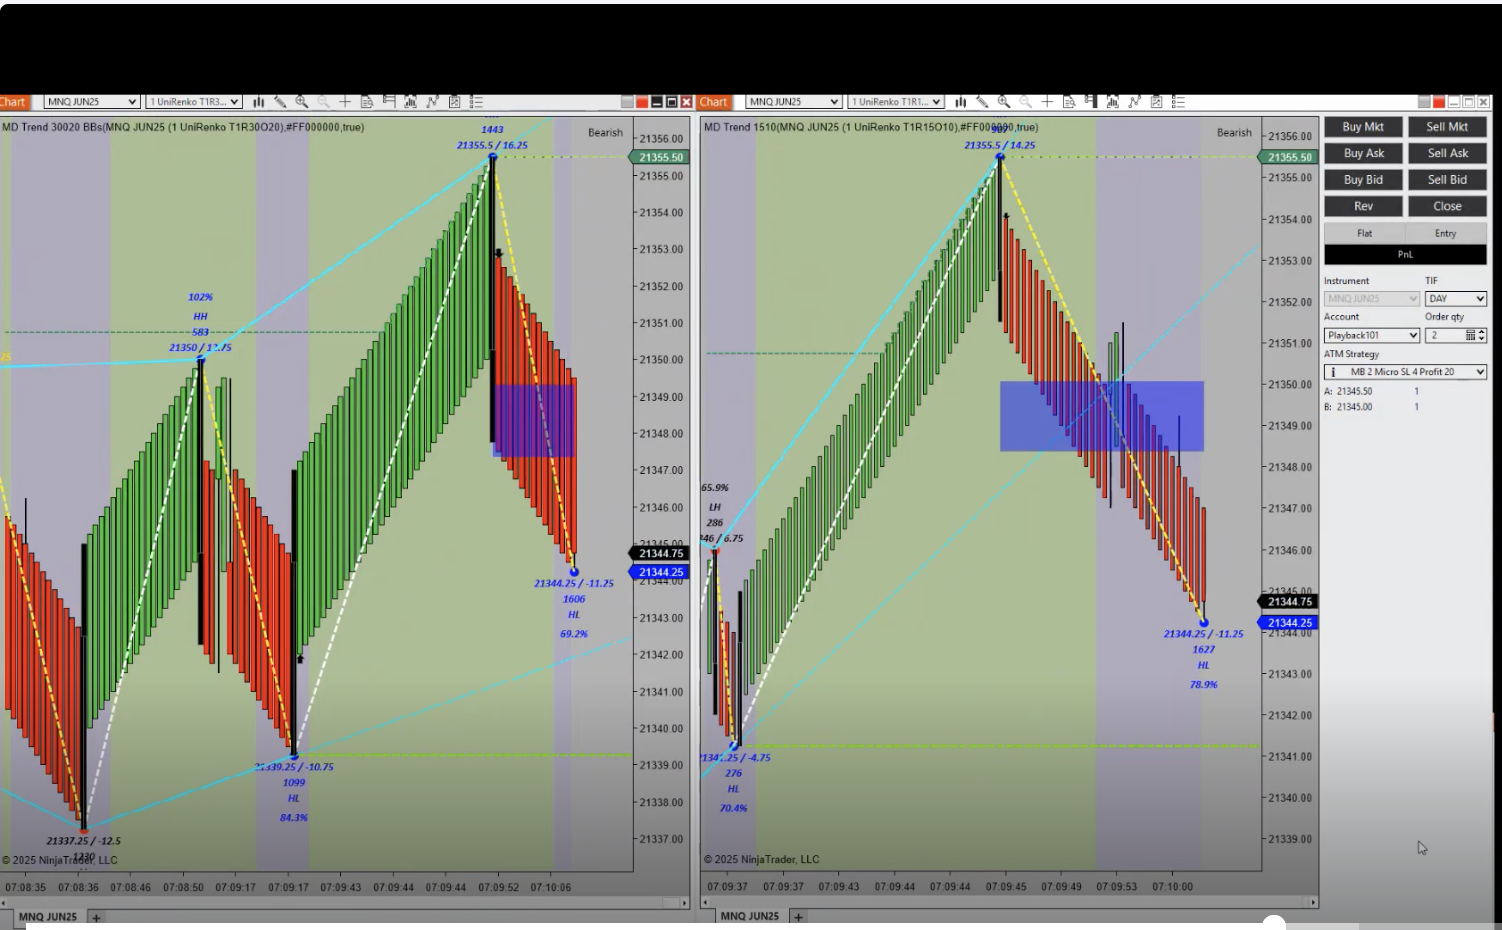candle: (193, 359, 208, 655), (289, 474, 303, 751), (487, 158, 499, 455), (80, 544, 91, 828), (997, 156, 1006, 330), (711, 555, 721, 722), (737, 589, 745, 754)
